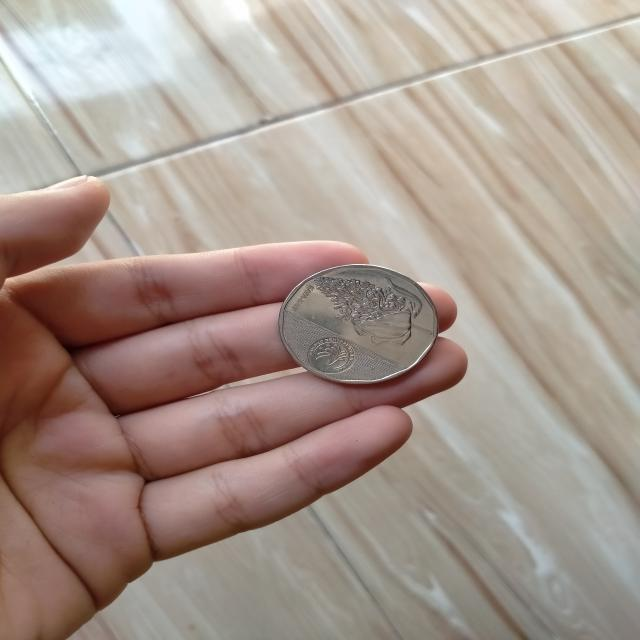10_New_Back: (302, 270, 439, 354)
